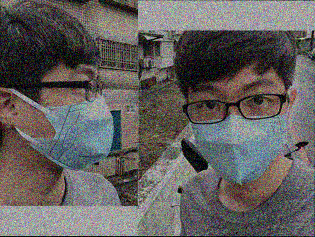with_mask: (188, 74, 290, 186), (30, 65, 118, 170)
